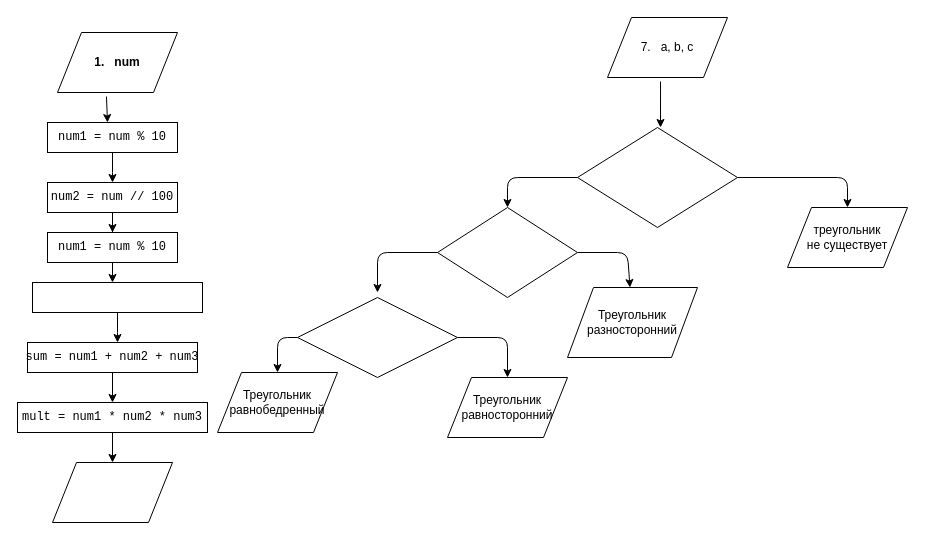
The diagram is 925 pixels wide and 540 high, and some of its shapes have lost their labels. The box of each missing label's shape, as (x1, y1, x2, y2) in pixels:
a!=b and a!=c and b!=c: (436, 206, 578, 298)
a+b<=c or a+c<=b or b+c<=a: (576, 126, 738, 228)
num3 = num % 100 // 10: (32, 282, 202, 312)
sta == stb == stc: (296, 296, 458, 378)
sum, must: (52, 462, 172, 522)
